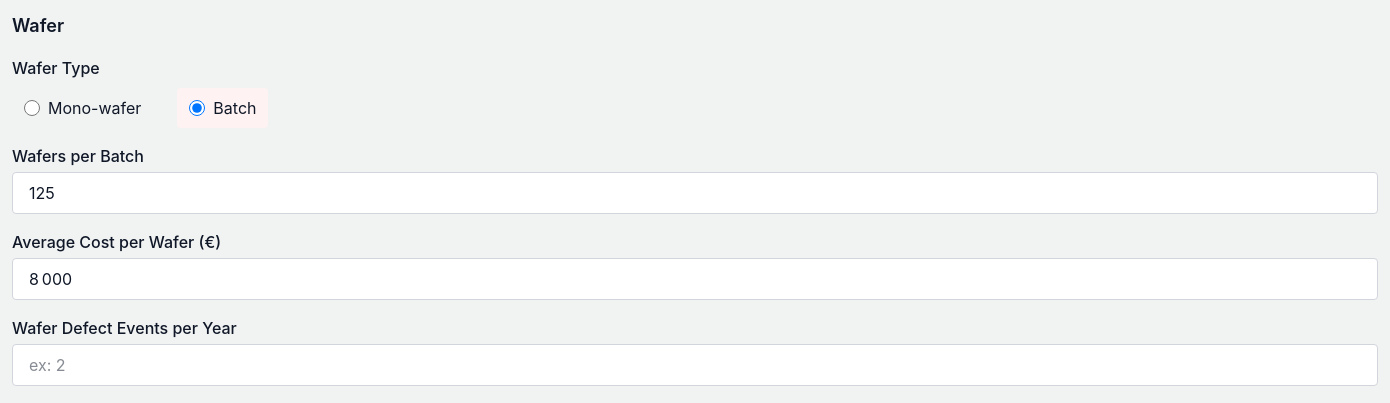
Test: WaferInputs › hides wafer quantity field when switching back to Mono-wafer
Expected: the number field labelled "Wafers per Batch" is shown, [12,172,1378,214]
Click the radio button labelled "Mono-wafer" at (32, 108), box [24,100,40,116]
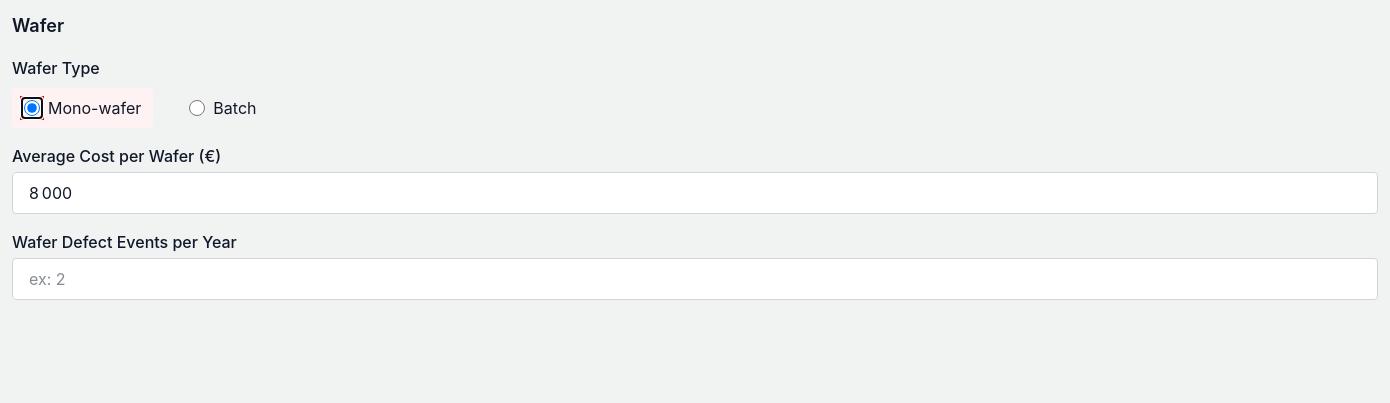
Result: the label labelled "Wafers per Batch" is gone
